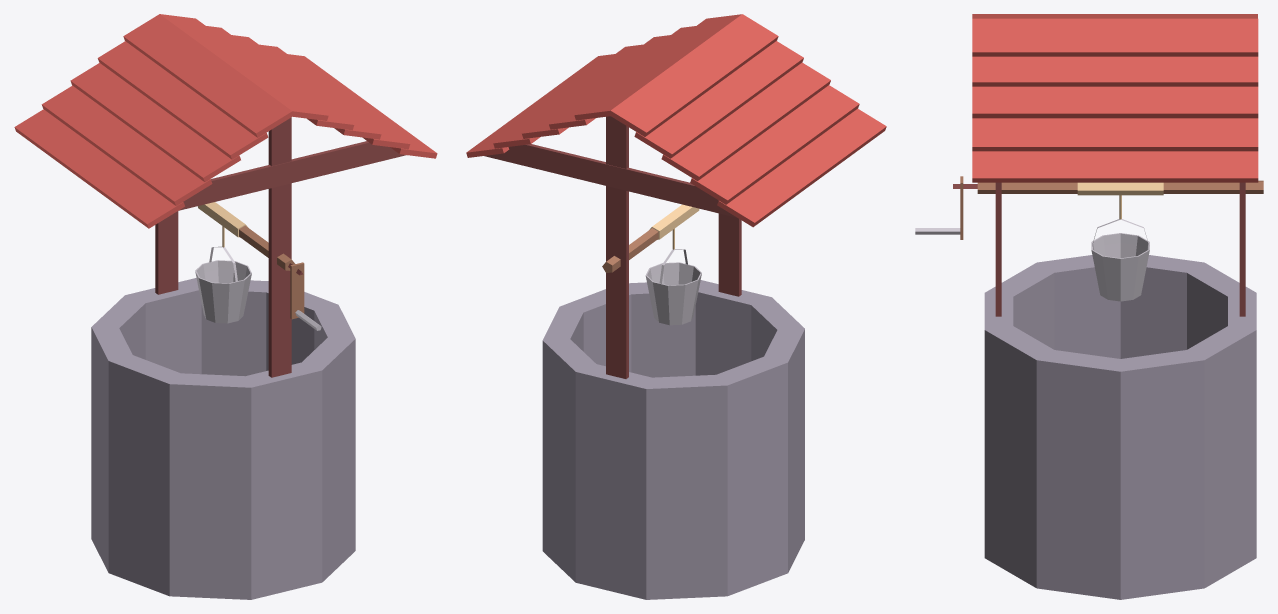
The model's file is water_well.fbx.
The picture shows the model from 3 angles, left to right: view 1: azimuth 30°, elevation 25°; view 2: azimuth 150°, elevation 25°; view 3: azimuth 270°, elevation 25°; orthographic projection. The views are drawn at different scales.
Visible parts, largest first — view 1: Water_well_LOD0; view 2: Water_well_LOD0; view 3: Water_well_LOD0.
Part boxes in pixels (x1,y1,x2,y2): Water_well_LOD0: (14,14,437,599); Water_well_LOD0: (466,14,886,599); Water_well_LOD0: (915,14,1263,599).
Size of what is drawn, in the model's own units: 252 by 402 by 244.
